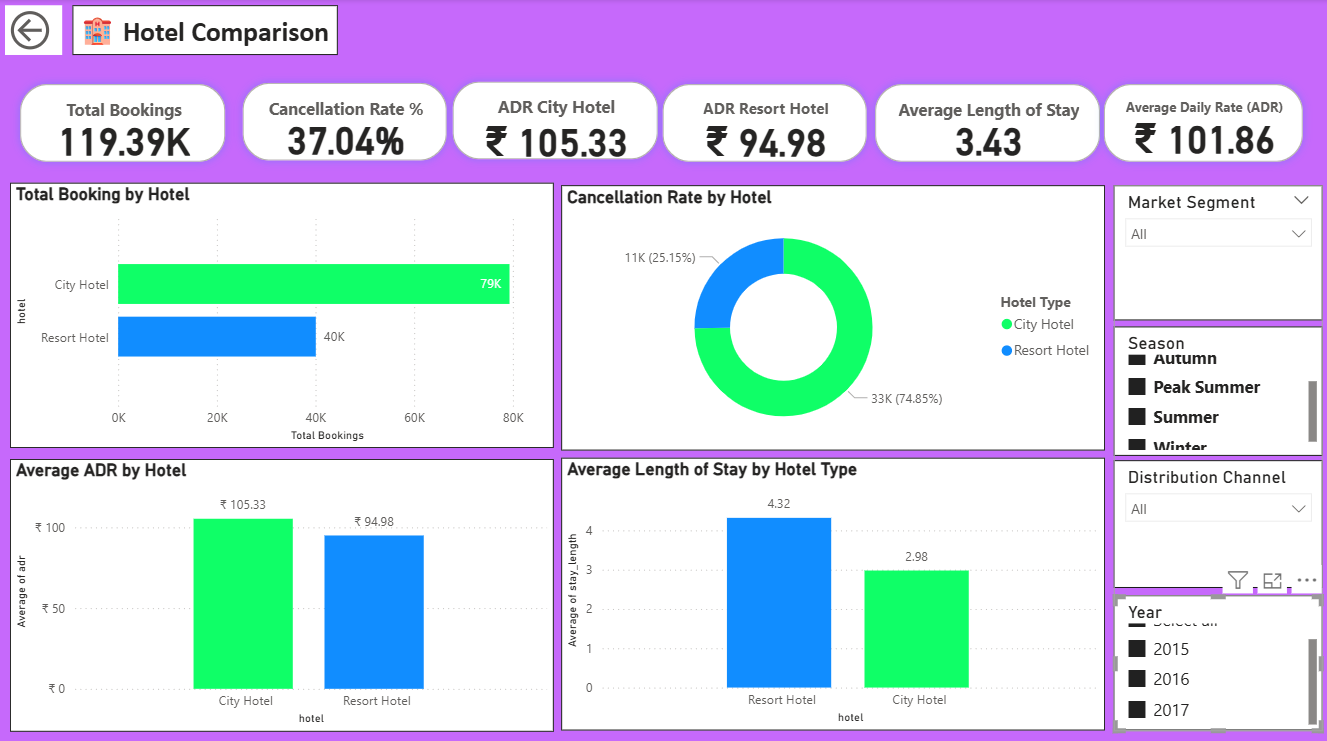

This screenshot's page, from the dashboard's own definition file:
{"tool":"powerbi","page":{"name":"Hotel Comparison","canvas":[1280,720],"ordinal":1},"visuals":[{"type":"textbox","box":[70,6,255.8,48.3],"z":0},{"type":"slicer","fields":{"Values":["vw_hotel_analysis.season"]},"box":[1074.4,316.3,201.7,125.1],"z":0,"group":"g1"},{"type":"cardVisual","fields":{"Data":["vw_hotel_analysis.Total Bookings"]},"box":[4.2,67.3,230.4,107.1],"z":1000,"group":"g2"},{"type":"group","id":"g1","title":"Group 2","box":[1074.4,179.8,201.7,526.9],"z":1000},{"type":"slicer","fields":{"Values":["vw_hotel_analysis.market_segment_name"]},"box":[1074.4,179.8,201.7,130.8],"z":2000,"group":"g1"},{"type":"cardVisual","fields":{"Data":["vw_hotel_analysis.ADR City Hotel"]},"box":[421.9,64.4,230.4,107.1],"z":3000,"group":"g2"},{"type":"columnChart","title":"Average ADR by Hotel","fields":{"Category":["vw_hotel_analysis.hotel"],"Y":["Avg(vw_hotel_analysis.adr)"]},"box":[9.7,444,524.8,263],"z":3000},{"type":"slicer","fields":{"Values":["vw_hotel_analysis.distribution_channel_name"]},"box":[1074.4,445.2,201.7,123.2],"z":3000,"group":"g1"},{"type":"barChart","title":"Total Booking by Hotel","fields":{"Category":["vw_hotel_analysis.hotel"],"Y":["vw_hotel_analysis.Total Bookings"]},"box":[9.7,177.3,524.8,255.8],"z":4000},{"type":"cardVisual","fields":{"Data":["vw_hotel_analysis.Cancellation Rate %"]},"box":[219.2,65.4,229.2,107.1],"z":5000,"group":"g2"},{"type":"donutChart","title":"Cancellation Rate by Hotel","fields":{"Category":["vw_hotel_analysis.hotel"],"Y":["vw_hotel_analysis.Cancelled Bookings"]},"box":[541.7,179.8,524.8,255.8],"z":5000},{"type":"slicer","fields":{"Values":["vw_hotel_analysis.arrival_date.Variation.Date Hierarchy.Year"]},"box":[1074.4,575.9,201.7,130.8],"z":5000,"group":"g1"},{"type":"clusteredColumnChart","title":"Average Length of Stay by Hotel Type","fields":{"Category":["vw_hotel_analysis.hotel"],"Y":["Avg(vw_hotel_analysis.stay_length)"]},"box":[541.7,442.8,524.8,263],"z":6000},{"type":"group","id":"g2","title":"Group 1","box":[4.2,64.4,1270.4,110],"z":7000},{"type":"cardVisual","fields":{"Data":["vw_hotel_analysis.ADR Resort Hotel"]},"box":[624.3,67.3,229.2,107.1],"z":7000,"group":"g2"},{"type":"actionButton","box":[4.8,6,55.5,48.3],"z":8000},{"type":"cardVisual","fields":{"Data":["Avg(vw_hotel_analysis.stay_length)"]},"box":[829.4,67.3,249.7,107.1],"z":8000,"group":"g2"},{"type":"cardVisual","fields":{"Data":["Avg(vw_hotel_analysis.adr)"]},"box":[1050.2,67.3,224.4,107.1],"z":9000,"group":"g2"}]}

Visuals, with their boxes in screenshot pixels (x1, y1, x2, y2), scaled from the page's 1280x720 canvas onto the 1327x741 screenshot:
textbox: (x1=73, y1=6, x2=338, y2=56)
slicer - vw_hotel_analysis.season: (x1=1114, y1=326, x2=1323, y2=454)
cardVisual - vw_hotel_analysis.Total Bookings: (x1=4, y1=69, x2=243, y2=179)
"Group 2" group: (x1=1114, y1=185, x2=1323, y2=727)
slicer - vw_hotel_analysis.market_segment_name: (x1=1114, y1=185, x2=1323, y2=320)
cardVisual - vw_hotel_analysis.ADR City Hotel: (x1=437, y1=66, x2=676, y2=177)
"Average ADR by Hotel" columnChart: (x1=10, y1=457, x2=554, y2=728)
slicer - vw_hotel_analysis.distribution_channel_name: (x1=1114, y1=458, x2=1323, y2=585)
"Total Booking by Hotel" barChart: (x1=10, y1=182, x2=554, y2=446)
cardVisual - vw_hotel_analysis.Cancellation Rate %: (x1=227, y1=67, x2=465, y2=178)
"Cancellation Rate by Hotel" donutChart: (x1=562, y1=185, x2=1106, y2=448)
slicer - vw_hotel_analysis.arrival_date.Variation.Date Hierarchy.Year: (x1=1114, y1=593, x2=1323, y2=727)
"Average Length of Stay by Hotel Type" clusteredColumnChart: (x1=562, y1=456, x2=1106, y2=726)
"Group 1" group: (x1=4, y1=66, x2=1321, y2=179)
cardVisual - vw_hotel_analysis.ADR Resort Hotel: (x1=647, y1=69, x2=885, y2=179)
actionButton: (x1=5, y1=6, x2=63, y2=56)
cardVisual - Avg(vw_hotel_analysis.stay_length): (x1=860, y1=69, x2=1119, y2=179)
cardVisual - Avg(vw_hotel_analysis.adr): (x1=1089, y1=69, x2=1321, y2=179)
